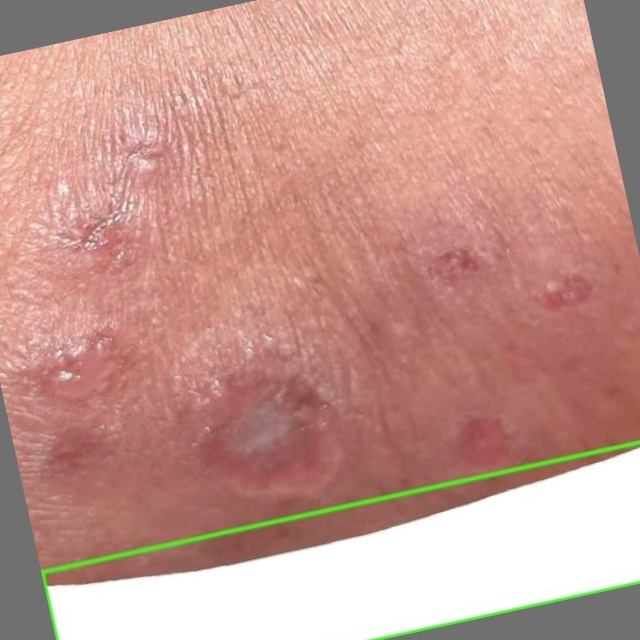Contact Dermatitis: (42, 442, 639, 639)
